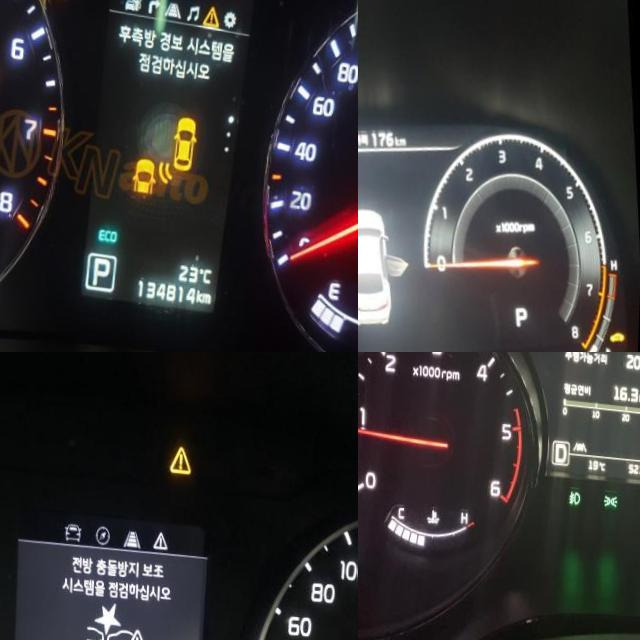Central Warning lamp: (169, 435, 194, 465), (202, 0, 221, 18)
FrontFogLight: (571, 482, 583, 499)
SideLamp: (606, 485, 621, 501)
